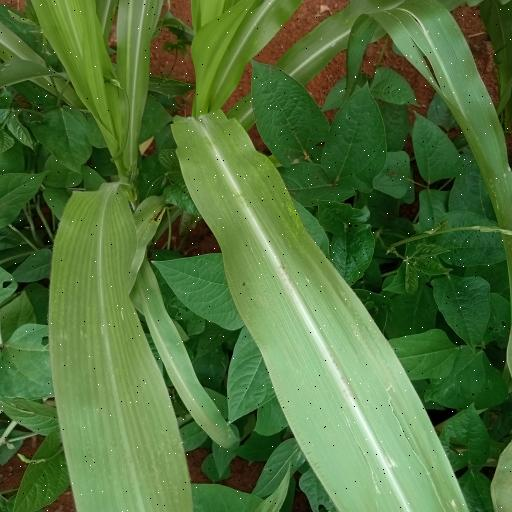Corn_Brown_Spots: (174, 112, 474, 512), (45, 172, 184, 512)
